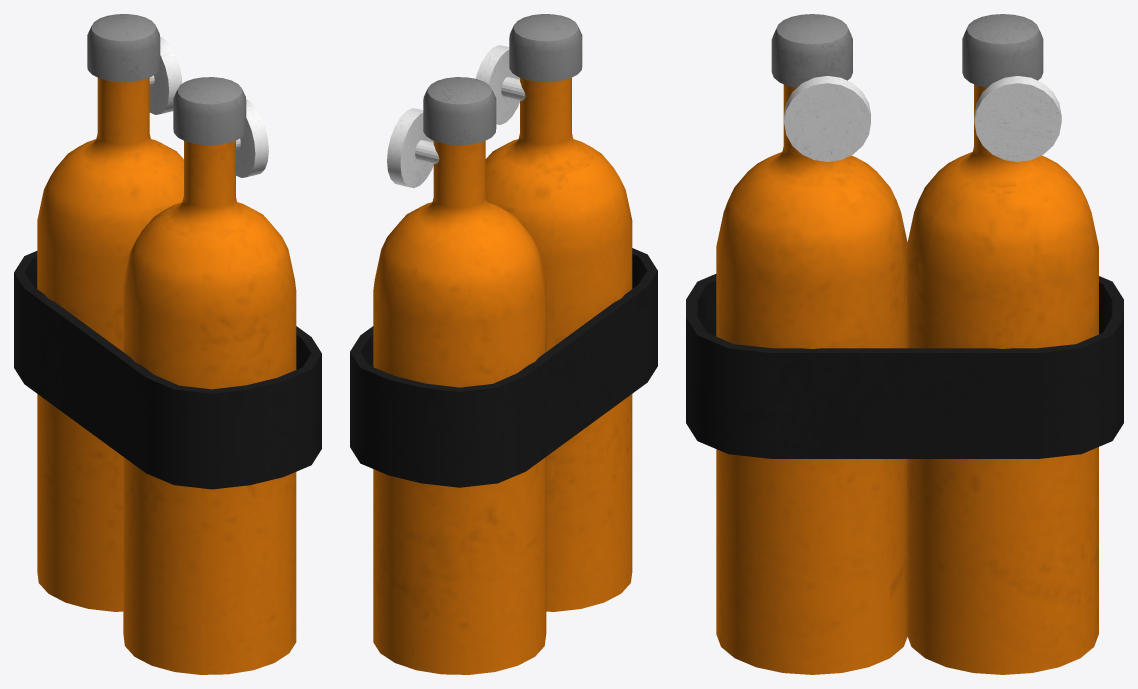
Rendered from gasTank.fbx.
3 views of the same model, side by side, from view 1: azimuth 30°, elevation 25°; view 2: azimuth 150°, elevation 25°; view 3: azimuth 270°, elevation 25° (orthographic). The views are drawn at different scales.
Visible parts, largest first — view 1: gasTank; view 2: gasTank; view 3: gasTank.
Boxes of the visible parts, x1,y1,x2,y2 form: gasTank: (14, 14, 321, 674); gasTank: (350, 14, 657, 674); gasTank: (686, 14, 1123, 674).
Bounding box in the file's own units: 13.89 × 44.23 × 28.8.
